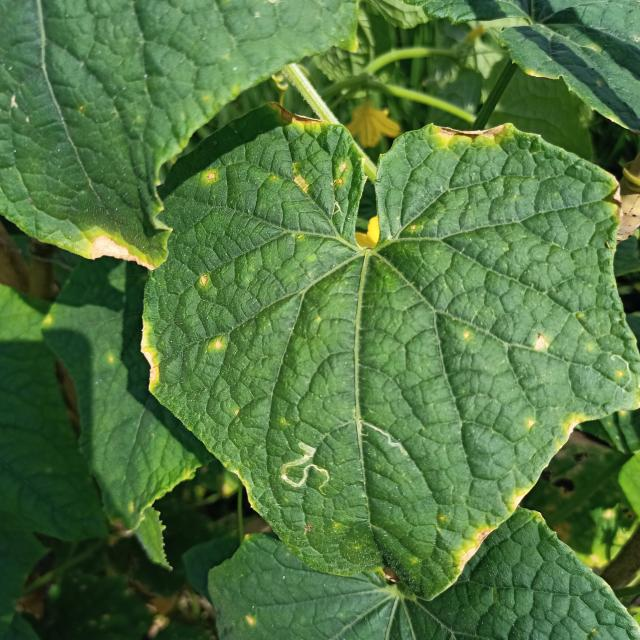disease_cucumber: (273, 102, 356, 195), (520, 404, 590, 445), (210, 336, 230, 358), (532, 333, 551, 354), (195, 272, 212, 290), (204, 170, 217, 184)
